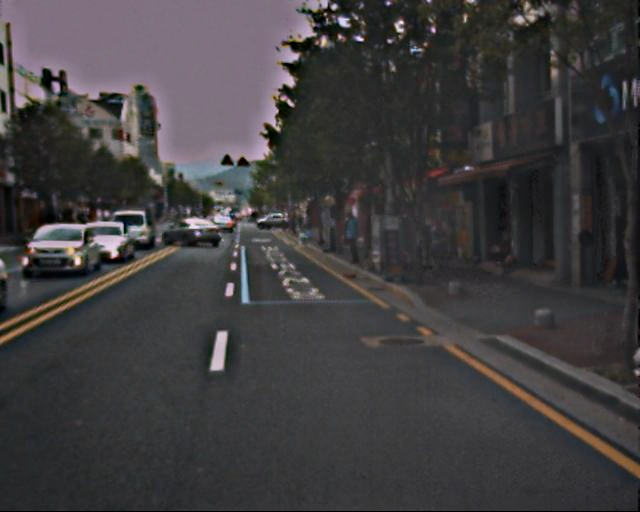person: (340, 210, 363, 267), (429, 219, 450, 269)
